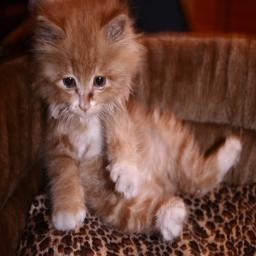catnose: (77, 95, 91, 112)
